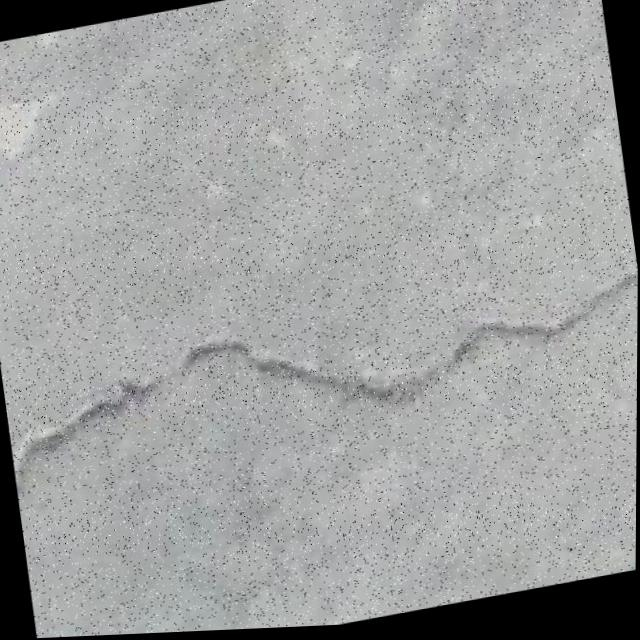Crack: (0, 255, 638, 505)
